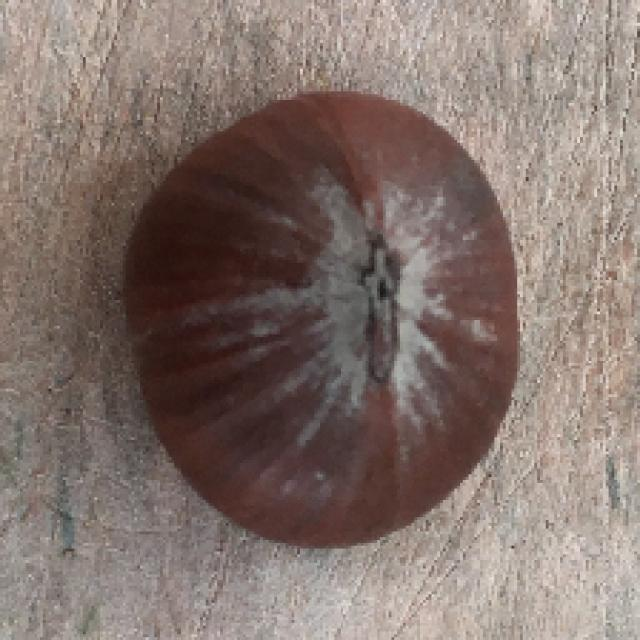DamagedHazelnut: (118, 88, 524, 551)
